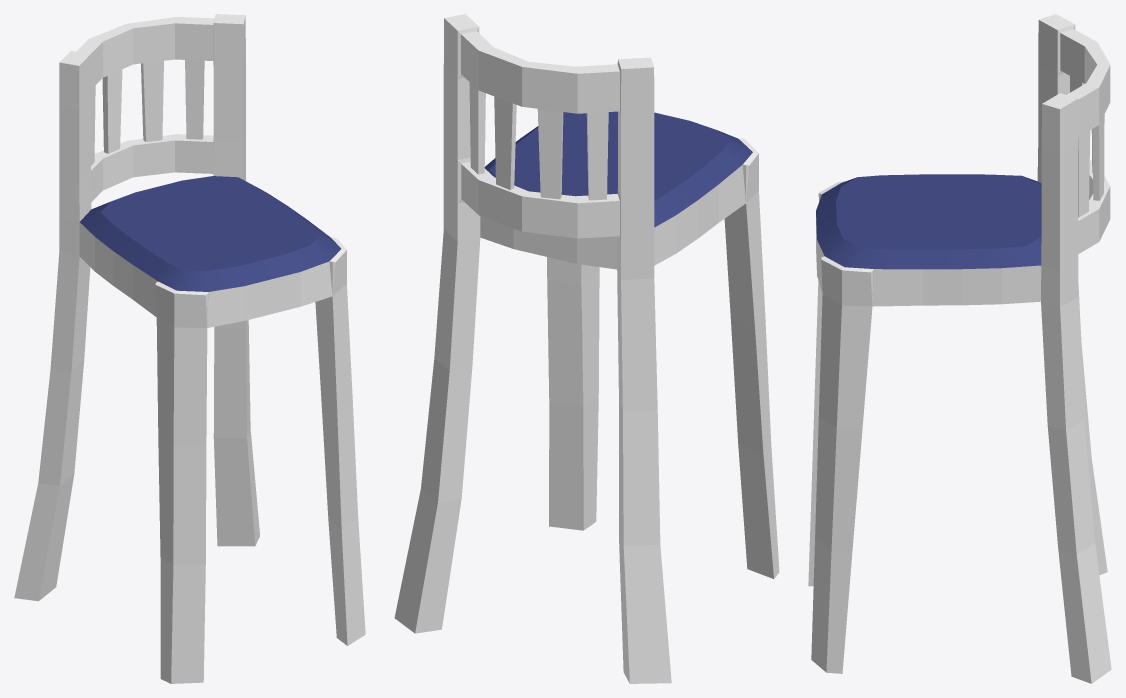
File: 3dcfc531-9aca-463d-bf95-1bc7afc80ff9.glb
The picture shows the model from 3 angles, left to right: view 1: azimuth 30°, elevation 25°; view 2: azimuth 150°, elevation 25°; view 3: azimuth 270°, elevation 25°; orthographic projection. The views are drawn at different scales.
Visible parts, largest first — view 1: BarChair.005; view 2: BarChair.005; view 3: BarChair.005.
Part boxes in pixels (bbox=[...]): BarChair.005: bbox=[14, 14, 365, 683]; BarChair.005: bbox=[394, 14, 779, 683]; BarChair.005: bbox=[808, 14, 1111, 683].
Size of what is drawn, in the model's own units: 0.5565 by 1.15 by 0.5668.
Materials: 1 (1 with a texture image).
